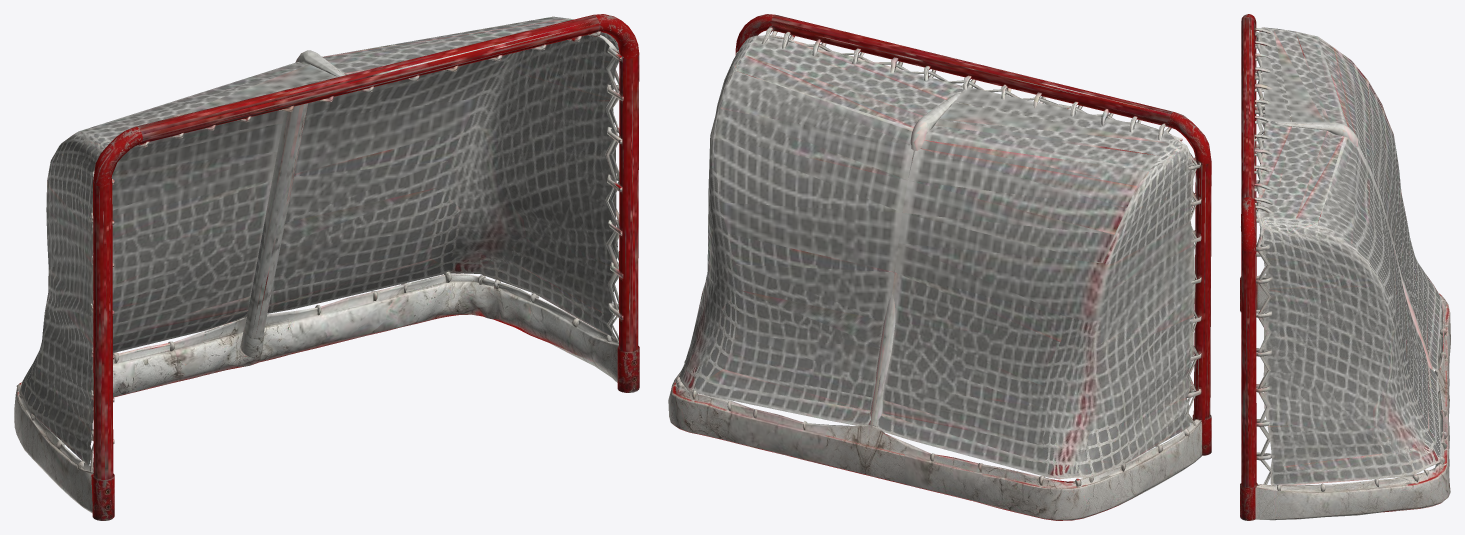
The model's file is skyways-d-hk-net.glb.
The picture shows the model from 3 angles, left to right: view 1: azimuth 30°, elevation 25°; view 2: azimuth 150°, elevation 25°; view 3: azimuth 270°, elevation 25°; orthographic projection. The views are drawn at different scales.
Visible parts, largest first — view 1: skyways-d-hk-net; view 2: skyways-d-hk-net; view 3: skyways-d-hk-net.
Part boxes in pixels (left/top/right/bottom): skyways-d-hk-net: left=14, top=14, right=639, bottom=520; skyways-d-hk-net: left=668, top=14, right=1211, bottom=520; skyways-d-hk-net: left=1240, top=14, right=1450, bottom=520.
Size of the model in its own units: 1.83 by 1.23 by 0.7623.
Materials: 1 (1 with a texture image).
